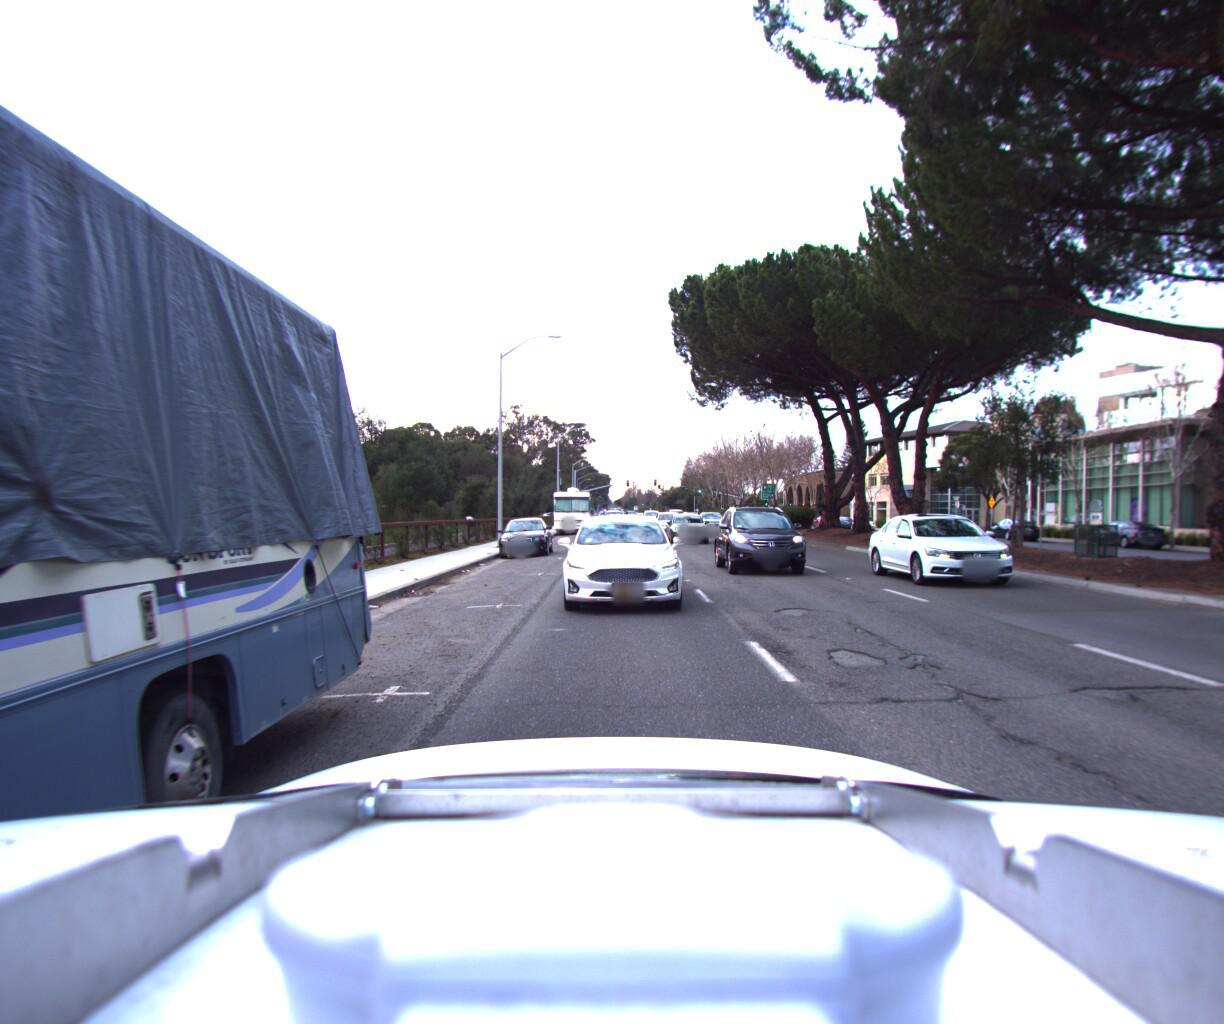bus: (549, 479, 591, 532)
car: (553, 513, 693, 631), (882, 510, 1072, 597), (715, 496, 818, 578), (1082, 516, 1168, 548), (498, 514, 553, 557), (665, 513, 716, 548), (982, 515, 1044, 540), (651, 508, 687, 534), (693, 508, 731, 532)
